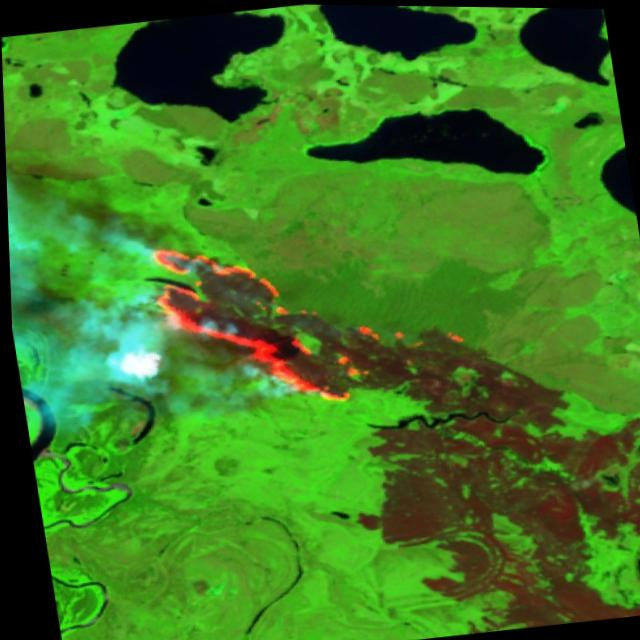fire: (141, 221, 395, 432)
